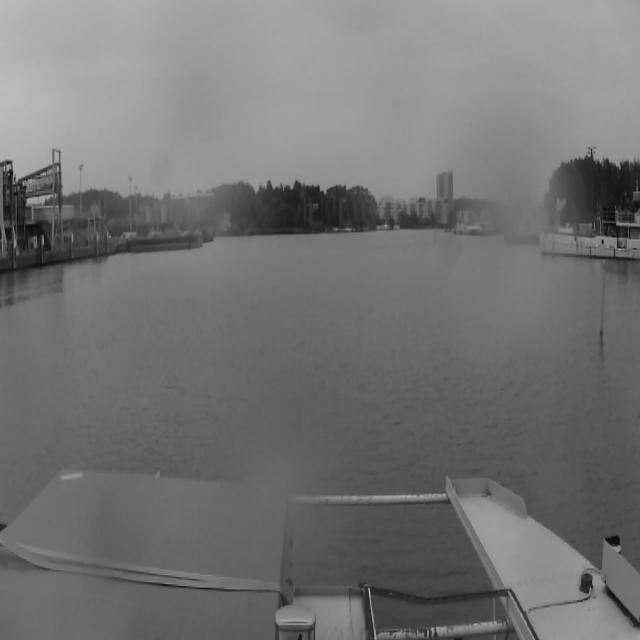buoy: (600, 266, 606, 340)
ship: (541, 210, 637, 263)
